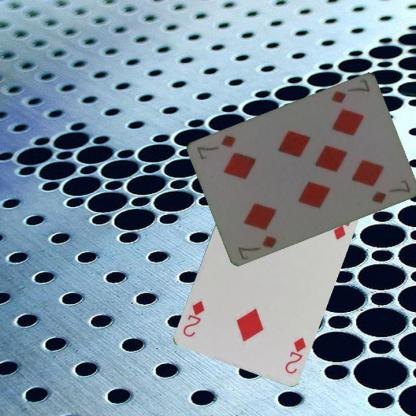2d: (282, 334, 307, 375)
7d: (235, 232, 279, 261), (328, 76, 372, 104)
